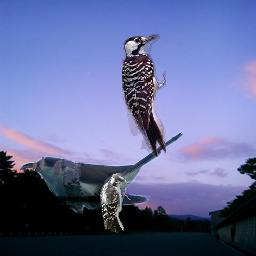Cuckoo: (20, 130, 188, 214)
Woodpecker: (122, 34, 166, 157), (100, 173, 131, 233)
